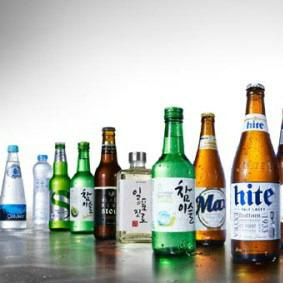soju: (148, 103, 199, 259), (46, 139, 97, 236)
